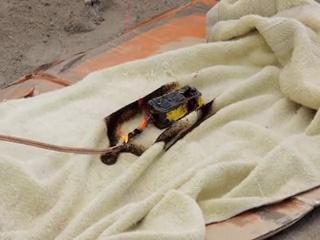Fire: (112, 95, 146, 145)
